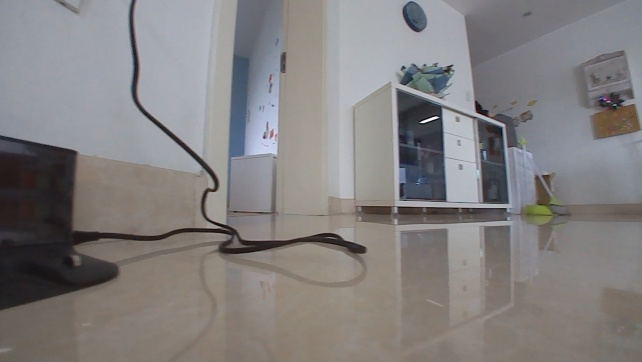wire: (72, 0, 369, 255)
